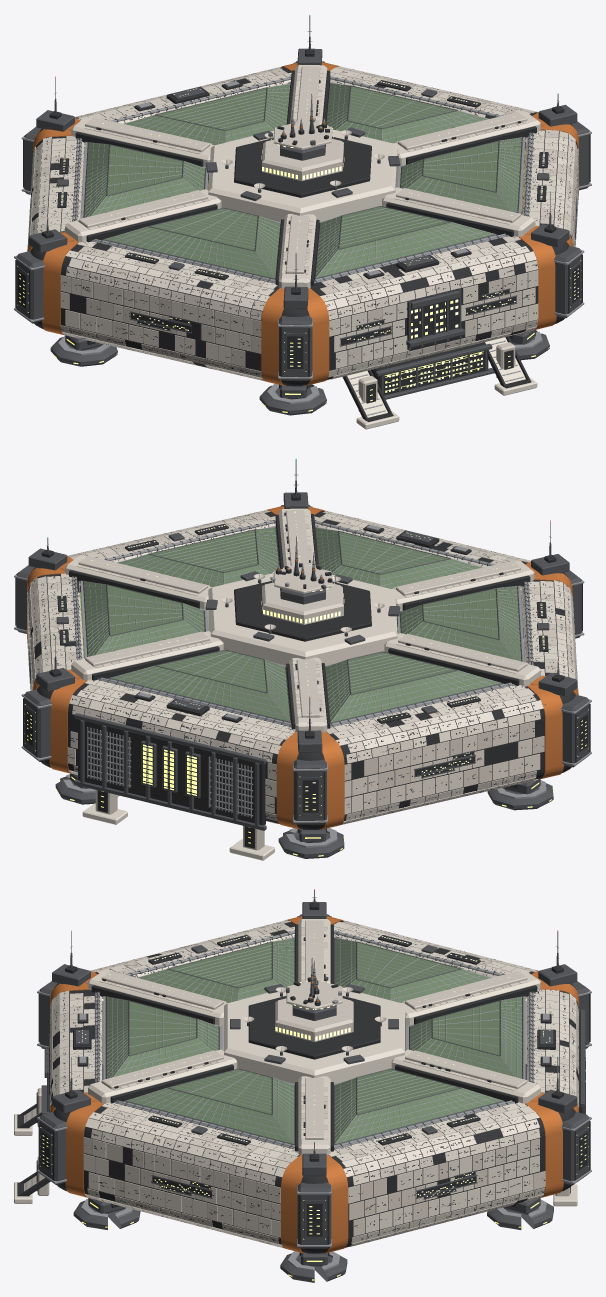
The picture shows the model from 3 angles, top to bottom: view 1: azimuth 30°, elevation 25°; view 2: azimuth 150°, elevation 25°; view 3: azimuth 270°, elevation 25°; orthographic projection.
Visible parts, largest first — view 1: DC_armor, DC_greenhouses, DC_spokes, DC_hub, DC_corners, DC_bands, DC_ring, DC_deck, DC_legs, DC_bays, DC_ramps, DC_command (+3 smaller); view 2: DC_armor, DC_greenhouses, DC_spokes, DC_gate, DC_hub, DC_corners, DC_bands, DC_deck, DC_ring, DC_legs, DC_tower, DC_ramps (+2 smaller); view 3: DC_armor, DC_greenhouses, DC_spokes, DC_hub, DC_corners, DC_bands, DC_ring, DC_deck, DC_legs, DC_tower, DC_ramps, DC_windows (+2 smaller).
Part boxes in pixels (<box>): DC_armor: <box>27,66,578,380</box>; DC_greenhouses: <box>81,82,525,280</box>; DC_spokes: <box>65,64,540,288</box>; DC_hub: <box>208,129,397,221</box>; DC_corners: <box>14,48,591,380</box>; DC_bands: <box>27,62,578,385</box>; DC_ring: <box>30,67,577,386</box>; DC_deck: <box>56,76,549,283</box>; DC_legs: <box>50,330,549,415</box>; DC_bays: <box>371,342,494,399</box>; DC_ramps: <box>342,336,537,429</box>; DC_command: <box>406,288,465,350</box>; DC_armor: <box>27,510,578,824</box>; DC_greenhouses: <box>80,526,524,723</box>; DC_spokes: <box>65,508,540,732</box>; DC_gate: <box>74,713,266,830</box>; DC_hub: <box>208,573,397,665</box>; DC_corners: <box>14,492,591,824</box>; DC_bands: <box>27,506,578,829</box>; DC_deck: <box>56,520,549,727</box>; DC_ring: <box>28,511,575,829</box>; DC_legs: <box>55,773,554,858</box>; DC_tower: <box>205,534,400,644</box>; DC_ramps: <box>82,790,274,860</box>; DC_armor: <box>50,920,578,1248</box>; DC_greenhouses: <box>103,936,525,1145</box>; DC_spokes: <box>88,919,540,1154</box>; DC_hub: <box>224,991,404,1083</box>; DC_corners: <box>37,902,591,1248</box>; DC_bands: <box>50,916,578,1253</box>; DC_ring: <box>51,920,577,1253</box>; DC_deck: <box>73,930,555,1149</box>; DC_legs: <box>73,1198,553,1282</box>; DC_tower: <box>230,956,398,1064</box>; DC_ramps: <box>14,1088,577,1206</box>; DC_windows: <box>49,1033,477,1199</box>.
Size of the model in its own units: 2445 by 860 by 2154.
